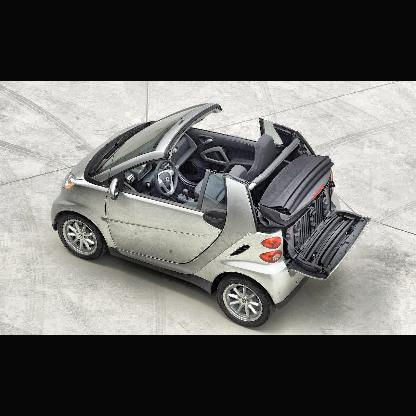smart fortwo Convertible 2012: (53, 103, 374, 327)
